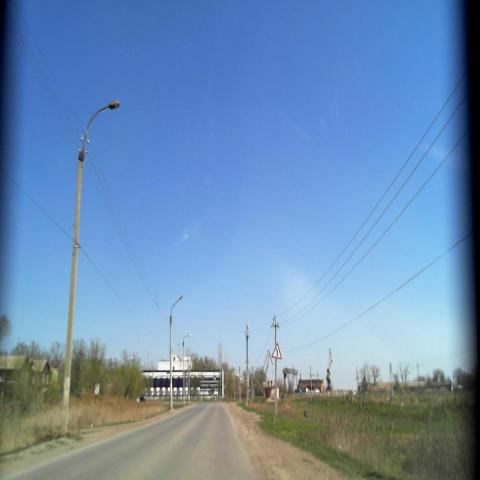1_11_1: (271, 342, 283, 359)
